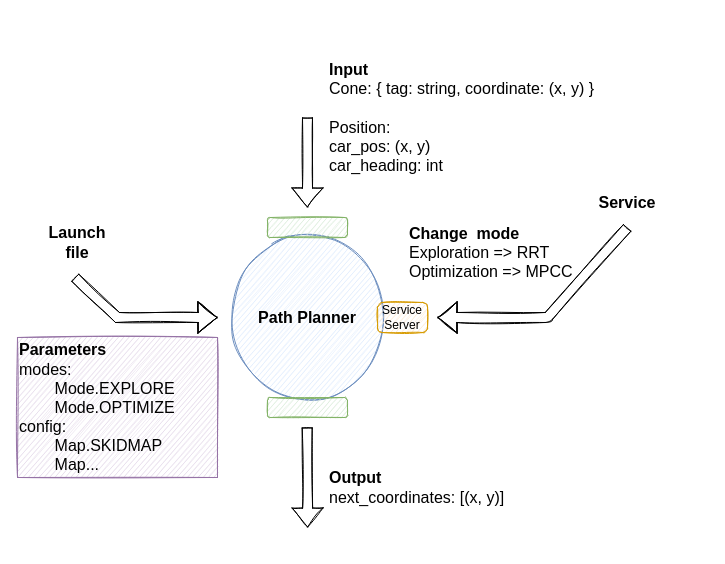
Some shapes in this 725 by 564 pixel diagram are drawn without their labels. Each missing label, with the centre of its shape:
"Publisher" belongs at (x=307, y=407).
"Subscriber" belongs at (x=307, y=227).
